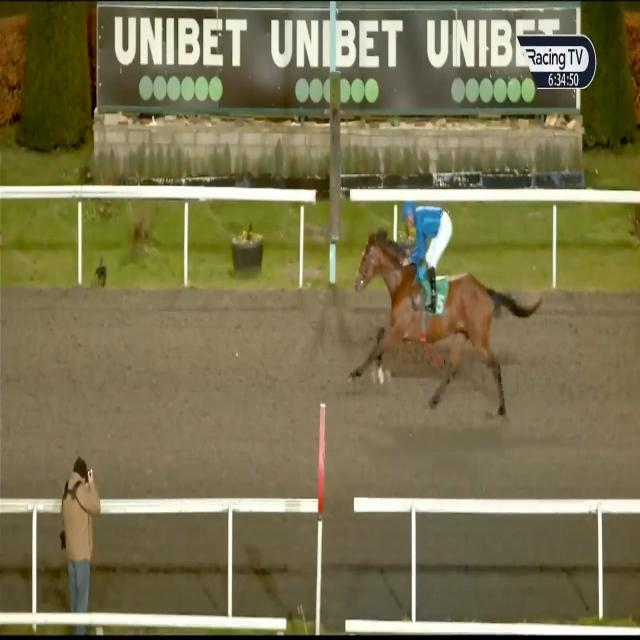horses-racing: (348, 194, 520, 414)
